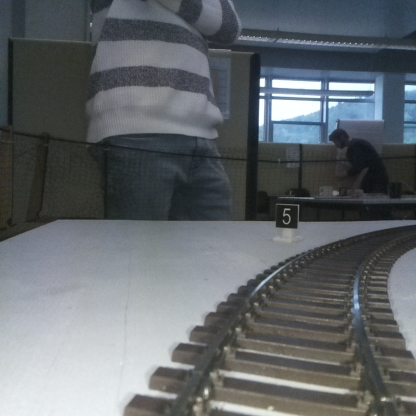black-stop-5: (276, 204, 298, 239)
